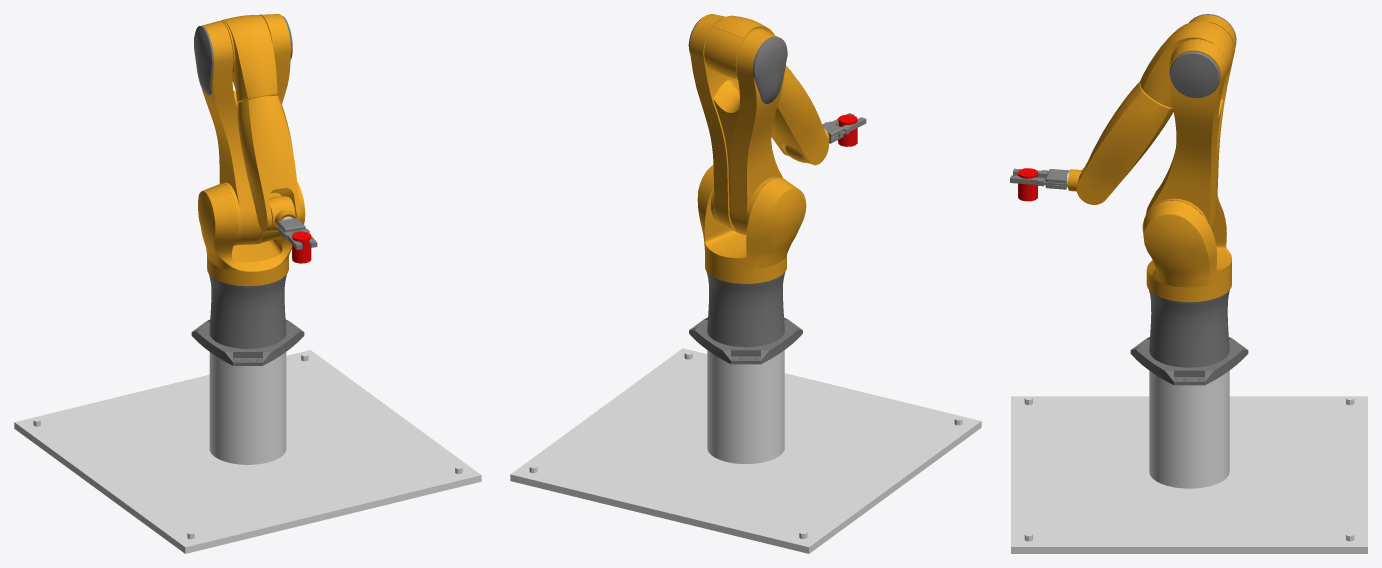
The model's file is kuka_animation_place_unqualified.gltf.
3 renders of one model, left to right at view 1: azimuth 30°, elevation 25°; view 2: azimuth 150°, elevation 25°; view 3: azimuth 270°, elevation 25°, orthographic. The views are drawn at different scales.
Parts seen in each view (by area): view 1: Kuka_c, Kuka_r3, Kuka_r2, Kuka_r5, Kuka_r1, Kuka_r4, Kuka, Kuka_r6; view 2: Kuka_c, Kuka_r3, Kuka_r2, Kuka_r1, Kuka_r5, Kuka_r4, Kuka; view 3: Kuka_c, Kuka_r3, Kuka_r2, Kuka_r5, Kuka_r1, Kuka_r4, Kuka, b2.
Part boxes in pixels (box(x1,y1,x2,y2)): Kuka_c: box(14, 350, 481, 553); Kuka_r3: box(194, 14, 292, 245); Kuka_r2: box(198, 182, 305, 286); Kuka_r5: box(237, 95, 301, 231); Kuka_r1: box(209, 274, 286, 348); Kuka_r4: box(220, 15, 278, 102); Kuka: box(191, 319, 304, 365); Kuka_r6: box(269, 196, 295, 231); Kuka_c: box(510, 348, 981, 553); Kuka_r3: box(688, 14, 787, 235); Kuka_r2: box(697, 165, 806, 283); Kuka_r1: box(706, 272, 785, 347); Kuka_r5: box(771, 66, 828, 165); Kuka_r4: box(704, 15, 785, 79); Kuka: box(689, 317, 802, 364); Kuka_c: box(1011, 370, 1367, 553); Kuka_r3: box(1142, 14, 1236, 232); Kuka_r2: box(1142, 196, 1231, 302); Kuka_r5: box(1076, 81, 1173, 204); Kuka_r1: box(1149, 290, 1229, 367); Kuka_r4: box(1140, 21, 1234, 107); Kuka: box(1130, 337, 1248, 385); b2: box(1018, 168, 1037, 201).
Size of the model in its own units: 0.8271 by 1.15 by 0.8292.
